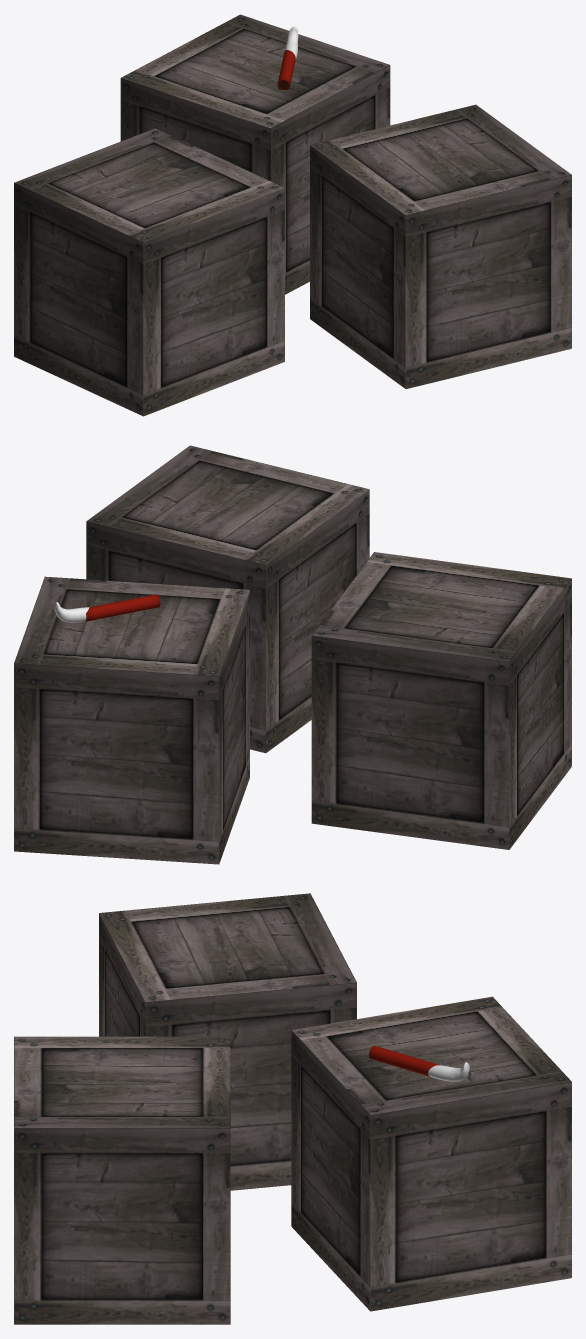
The picture shows the model from 3 angles, top to bottom: view 1: azimuth 30°, elevation 25°; view 2: azimuth 150°, elevation 25°; view 3: azimuth 270°, elevation 25°; orthographic projection. The views are drawn at different scales.
Visible parts, largest first — view 1: Cube.002, Cube.003, Cube.001, Cylinder; view 2: Cube.002, Cube.001, Cube.003, Cylinder; view 3: Cube.001, Cube.003, Cube.002, Cylinder, Mball.001.
Boxes of the visible parts, x1=… form: Cube.002: x1=14, y1=128, x2=284, y2=416; Cube.003: x1=310, y1=104, x2=571, y2=388; Cube.001: x1=120, y1=14, x2=390, y2=294; Cylinder: x1=277, y1=50, x2=295, y2=89; Cube.002: x1=311, y1=552, x2=571, y2=849; Cube.001: x1=14, y1=576, x2=249, y2=864; Cube.003: x1=86, y1=445, x2=369, y2=753; Cylinder: x1=85, y1=594, x2=160, y2=621; Cube.001: x1=291, y1=996, x2=571, y2=1311; Cube.003: x1=14, y1=1036, x2=230, y2=1324; Cube.002: x1=99, y1=893, x2=356, y2=1190; Cylinder: x1=369, y1=1045, x2=439, y2=1076; Mball.001: x1=428, y1=1062, x2=469, y2=1081.
Size of the model in its own units: 0.1018 by 0.1022 by 0.0443.
Materials: 5 (4 with a texture image).
